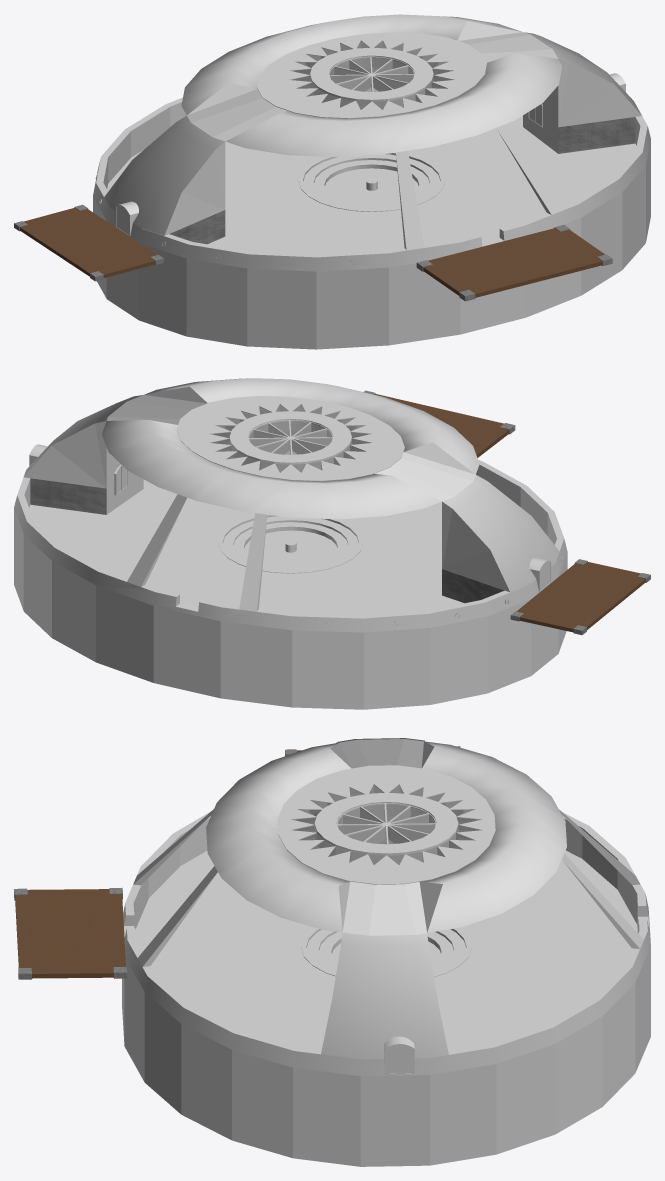
The model's file is Homestead Placeholder.obj.
3 views of the same model, one above another, from view 1: azimuth 30°, elevation 25°; view 2: azimuth 150°, elevation 25°; view 3: azimuth 270°, elevation 25° (orthographic). The views are drawn at different scales.
Visible parts, largest first — view 1: Mesh3 Group3 Model, Mesh4 Group4 Model, Mesh5 Group5 Model, Mesh1 Group1 Model; view 2: Mesh3 Group3 Model, Mesh5 Group5 Model, Mesh4 Group4 Model, Mesh1 Group1 Model, Mesh2 Group2 Model; view 3: Mesh3 Group3 Model, Mesh4 Group4 Model, Mesh2 Group2 Model.
Boxes of the visible parts, x1=… form: Mesh3 Group3 Model: x1=93, y1=14, x2=650, y2=349; Mesh4 Group4 Model: x1=416, y1=225, x2=612, y2=301; Mesh5 Group5 Model: x1=14, y1=204, x2=163, y2=281; Mesh1 Group1 Model: x1=116, y1=201, x2=138, y2=236; Mesh3 Group3 Model: x1=14, y1=378, x2=567, y2=709; Mesh5 Group5 Model: x1=510, y1=559, x2=650, y2=635; Mesh4 Group4 Model: x1=364, y1=390, x2=515, y2=457; Mesh1 Group1 Model: x1=529, y1=558, x2=551, y2=592; Mesh2 Group2 Model: x1=29, y1=444, x2=127, y2=495; Mesh3 Group3 Model: x1=122, y1=738, x2=650, y2=1166; Mesh4 Group4 Model: x1=14, y1=887, x2=127, y2=979; Mesh2 Group2 Model: x1=384, y1=1036, x2=414, y2=1074.
Size of the model in its own units: 93.21 by 27.23 by 76.16.
